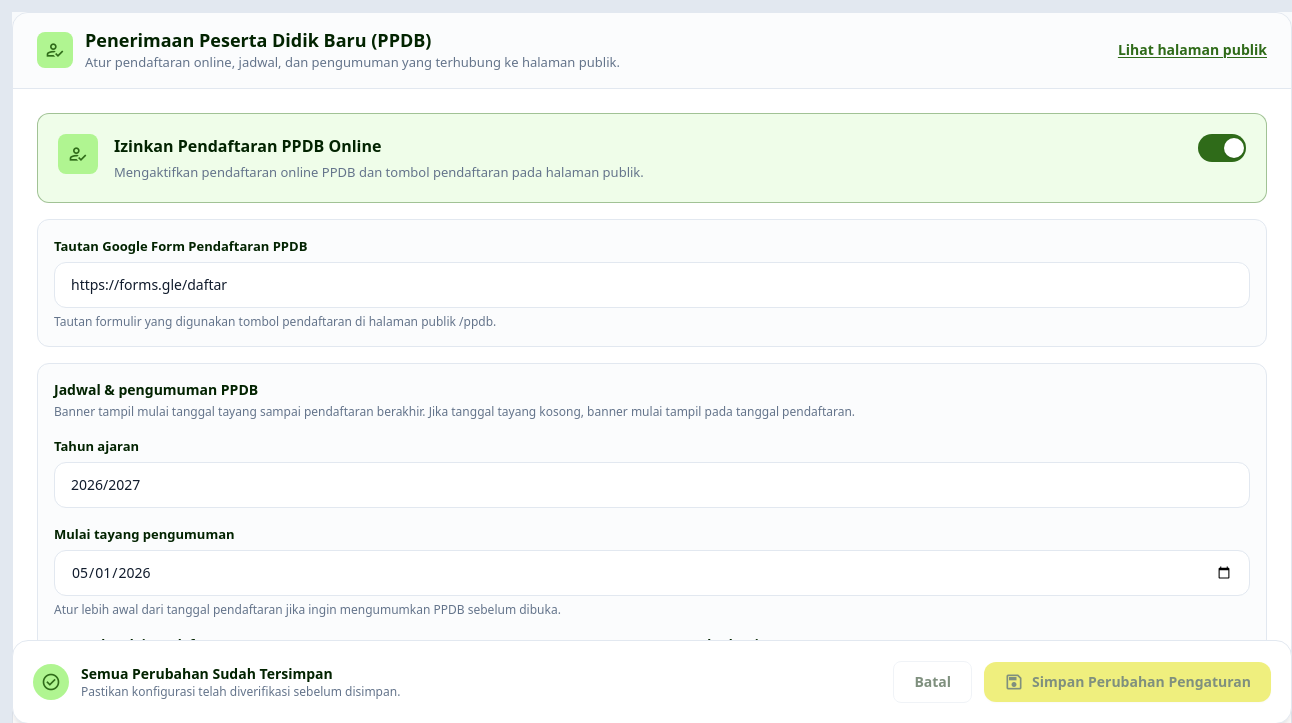
Scenario: Admin · Pengaturan PPDB › menolak tautan pendaftaran yang bukan URL
This screenshot has width=1292, height=723.
Replace the text in the field labelled "Tautan Google Form Pendaftaran PPDB" with "bukan-url". click: (652, 284)
box: [54,262,1250,308]
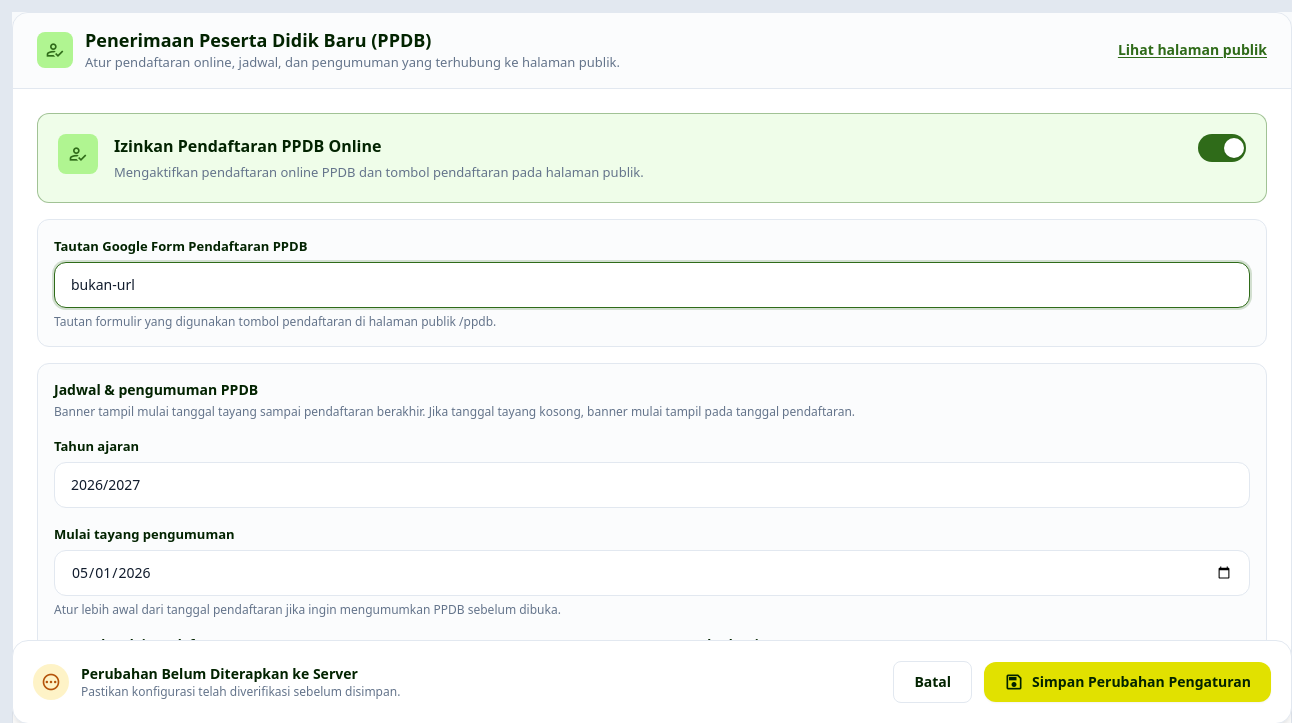
Click the button "Simpan Perubahan Pengaturan". click: click(1128, 682)
box: [984,662,1271,702]
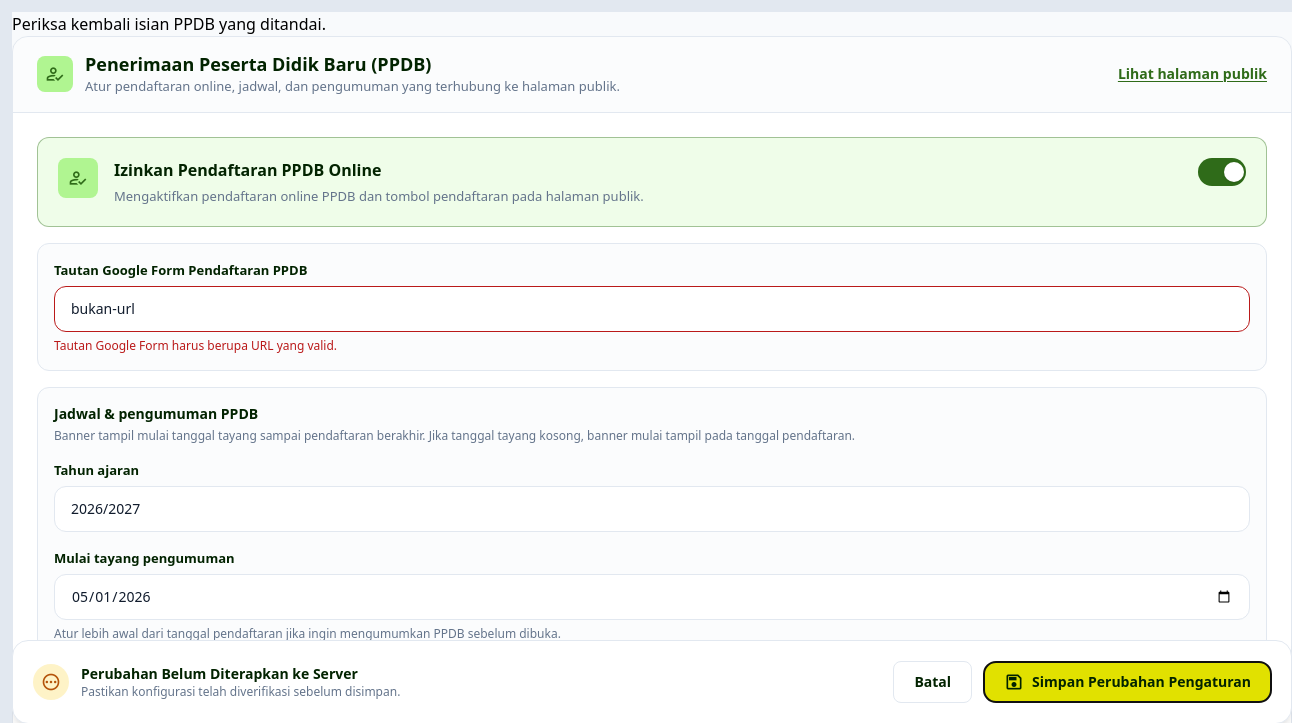
Check: the text "Tautan Google Form harus berupa URL yang valid." is shown, box [54,336,337,354]
